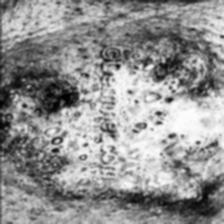Unclassified: (0, 38, 93, 224), (122, 27, 216, 205)
